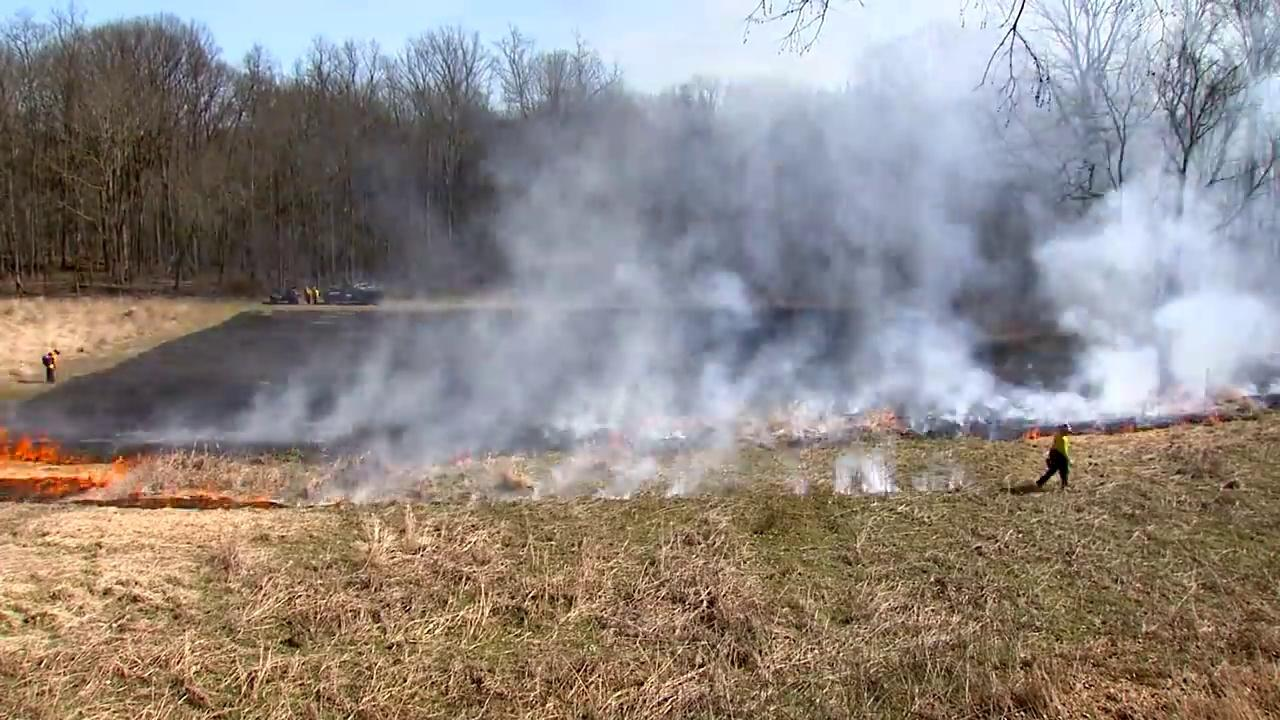Fire: (42, 454, 143, 500), (4, 434, 80, 466), (1022, 425, 1044, 444)
